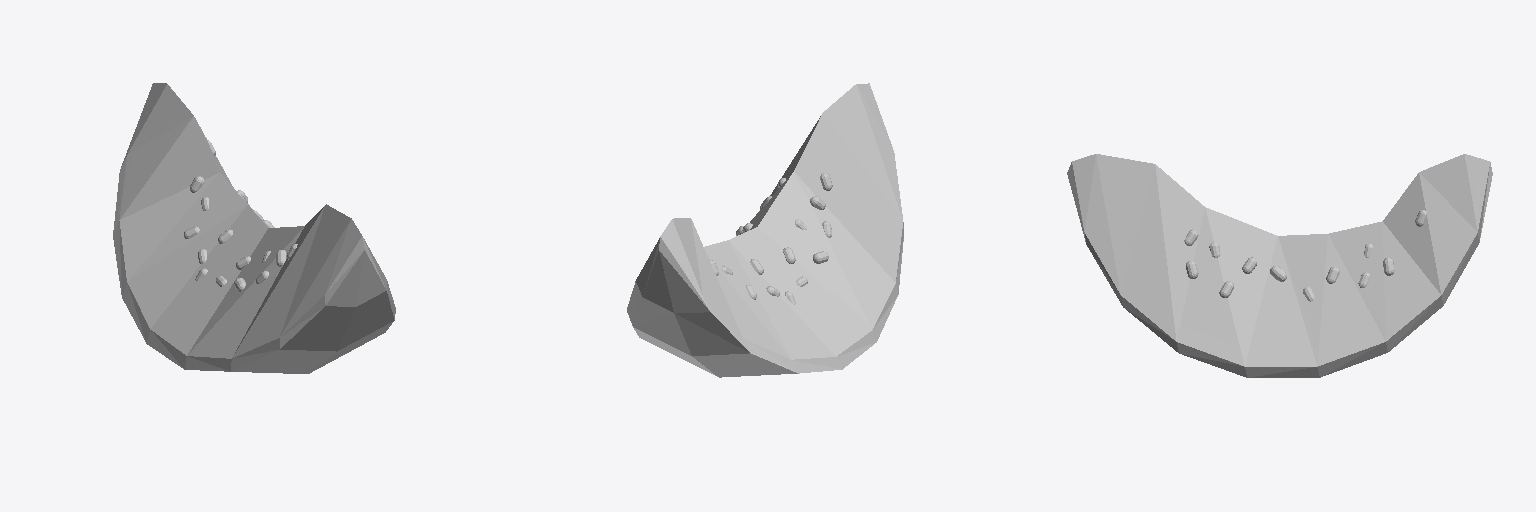
The picture shows the model from 3 angles: view 1: azimuth 30°, elevation 25°; view 2: azimuth 150°, elevation 25°; view 3: azimuth 270°, elevation 25°; orthographic projection.
Parts seen in each view (by area): view 1: entity_2; view 2: entity_2; view 3: entity_2.
Part boxes in pixels (bbox=[...]): entity_2: bbox=[113, 83, 395, 373]; entity_2: bbox=[627, 83, 903, 377]; entity_2: bbox=[1067, 154, 1492, 377].
Size of the model in its own units: 0.4653 by 0.5047 by 0.9362.